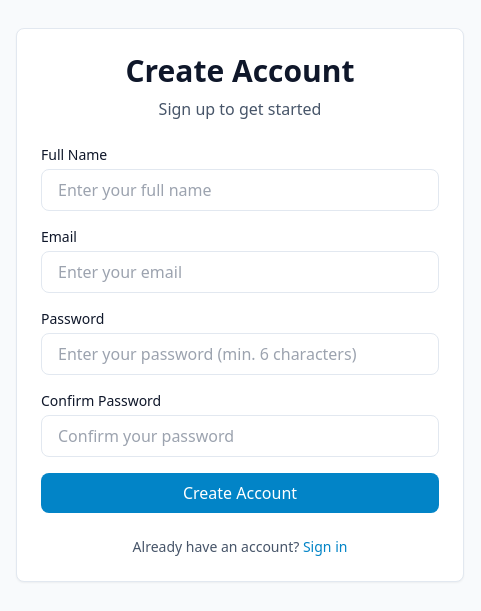
Scenario: Register › Form Validation › shows error for empty password
Step 1. Type "Test User" into the field labelled "Full Name" → (240, 190), box [41,169,439,211]
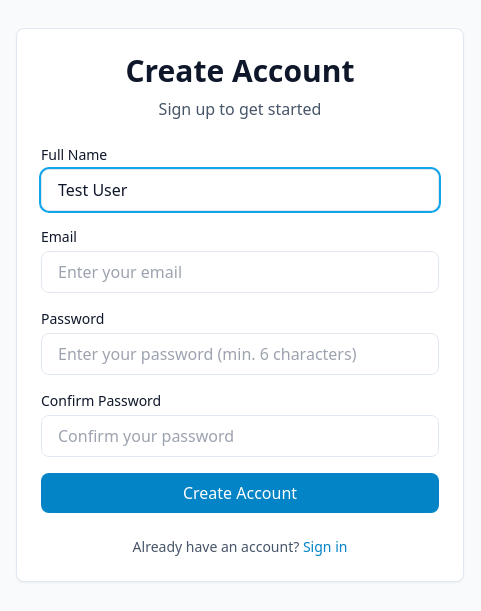
Step 2. Type "test@example.com" into the field labelled "Email" → (240, 272), box [41,251,439,293]
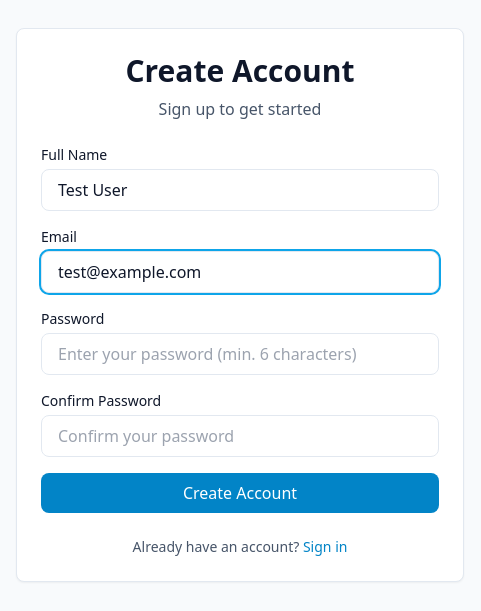
Step 3. Click the button "Create Account" → (240, 493), box [41,473,439,513]
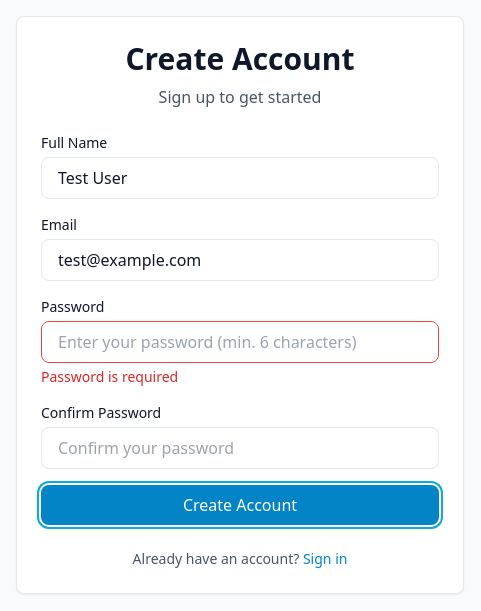
Result: the text "Password is required" is shown at [41,367,178,386]
